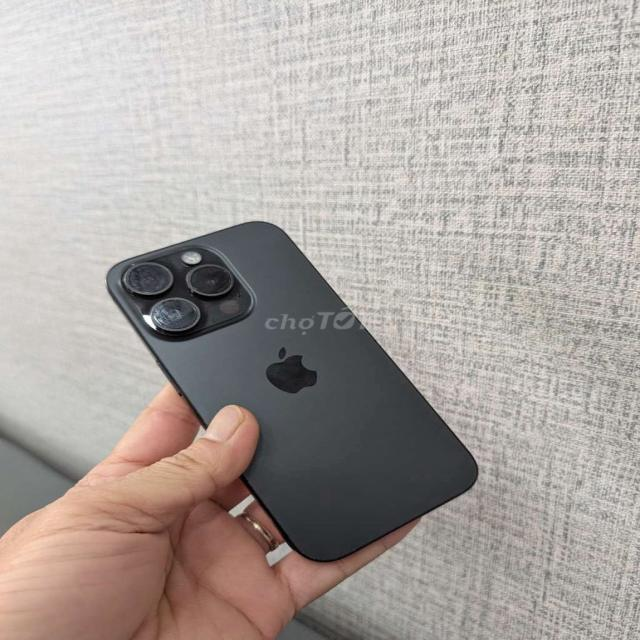gen_15: (74, 213, 500, 564)
